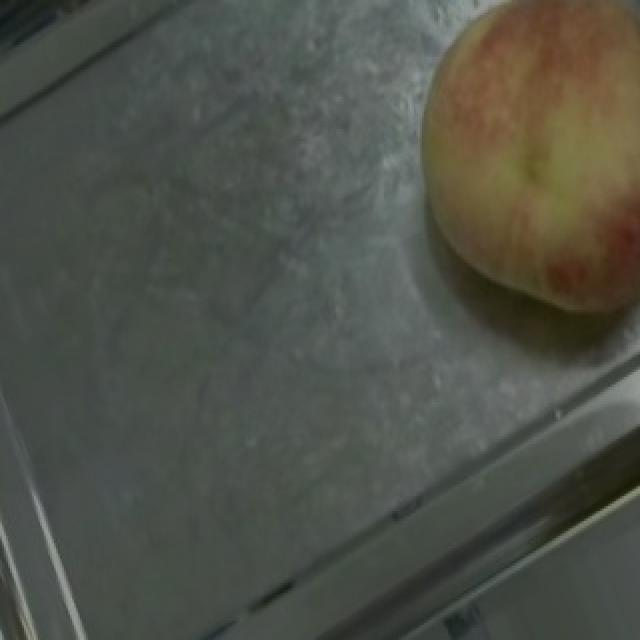Fruit: (376, 0, 638, 360)
